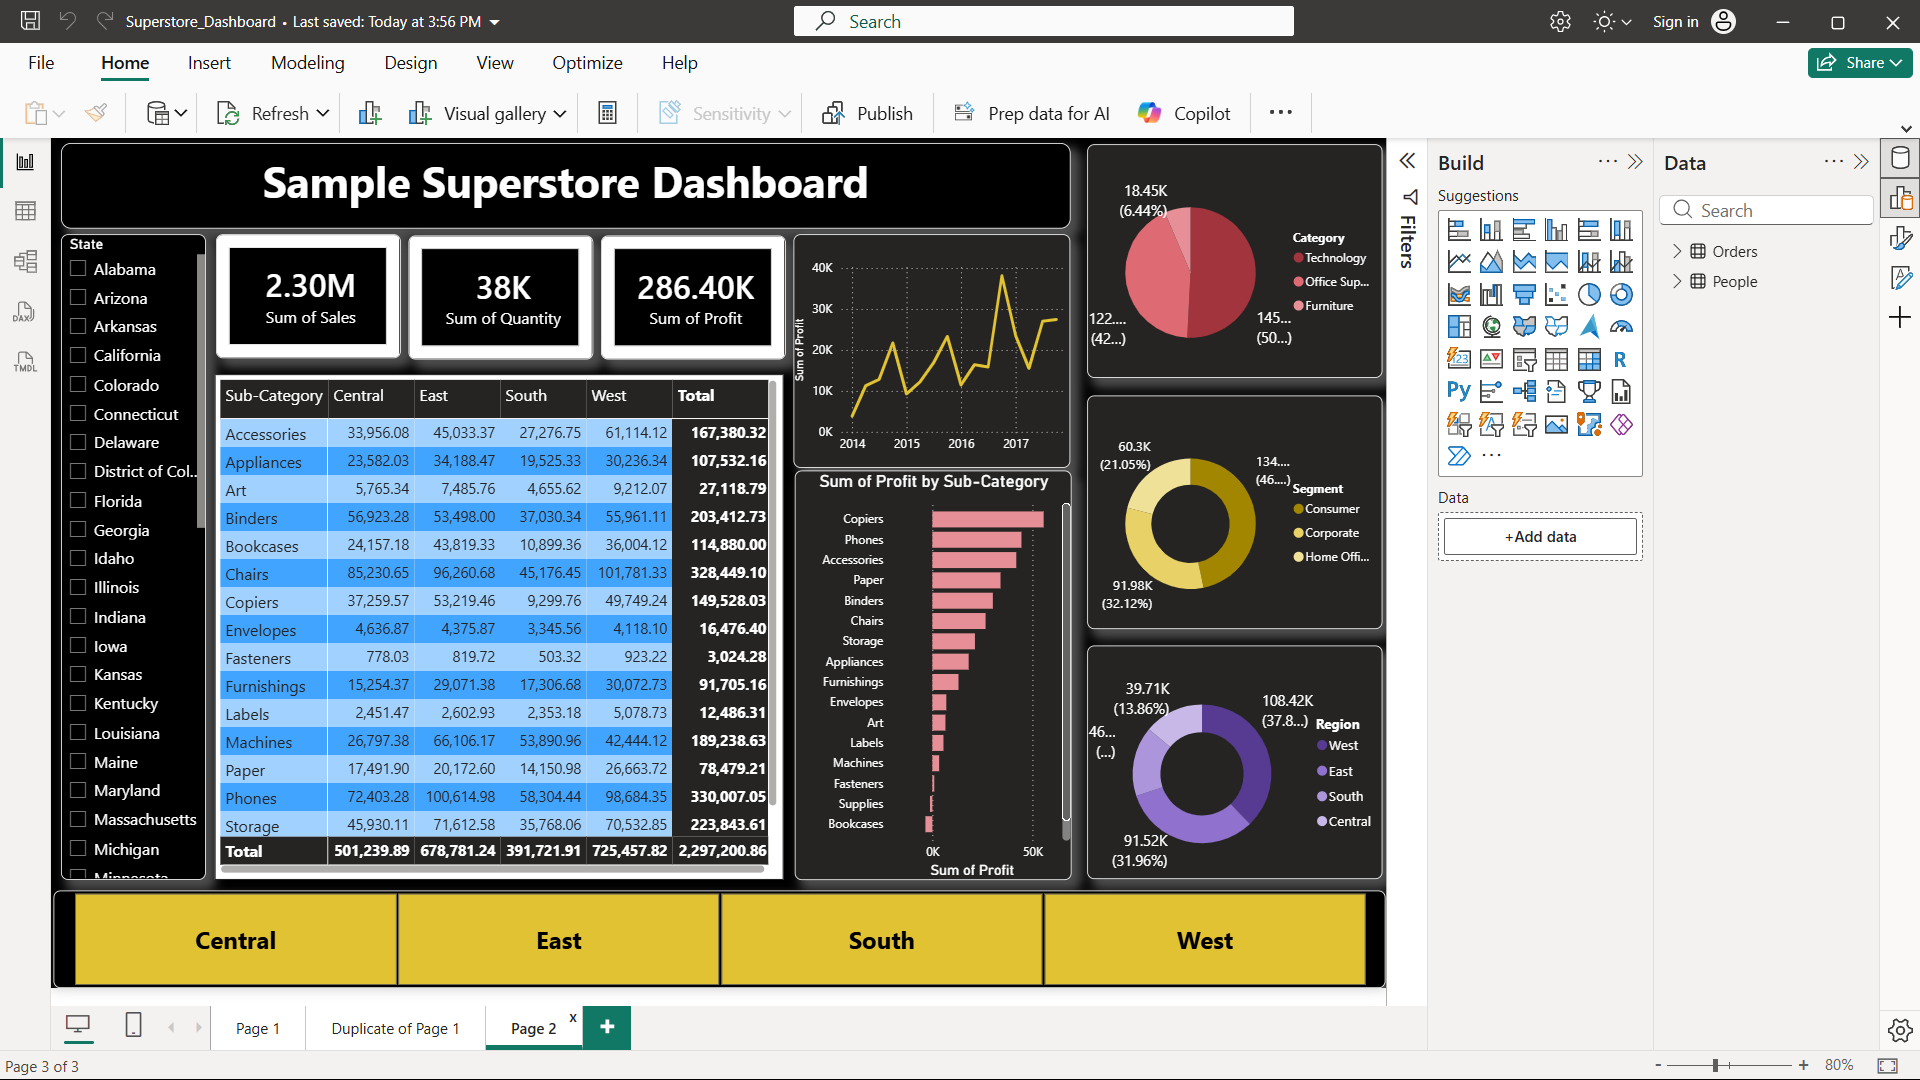

This screenshot's page, from the dashboard's own definition file:
{"tool":"powerbi","page":{"name":"Page 2","canvas":[1335,850],"ordinal":2},"visuals":[{"type":"textbox","box":[10.5,4.5,1009.7,85.8],"z":0},{"type":"slicer","fields":{"Values":["Orders.State"]},"box":[10.5,96.3,144.5,645.5],"z":1000},{"type":"cardVisual","fields":{"Data":["Sum(Orders.Sales)"]},"box":[164.5,96.7,184.7,124.1],"z":2000},{"type":"cardVisual","fields":{"Data":["Sum(Orders.Quantity)"]},"box":[357.8,98.1,184.7,124.1],"z":3000},{"type":"cardVisual","fields":{"Data":["Sum(Orders.Profit)"]},"box":[549.7,98.1,184.7,124.1],"z":4000},{"type":"pivotTable","fields":{"Columns":["Orders.Region"],"Rows":["Orders.Sub-Category"],"Values":["Sum(Orders.Sales)"]},"box":[164,236.2,568.8,505.6],"z":5000},{"type":"lineChart","fields":{"Category":["Orders.Order Date.Variation.Date Hierarchy.Year","Orders.Order Date.Variation.Date Hierarchy.Quarter"],"Y":["Sum(Orders.Profit)"]},"box":[743,96.7,277,233.7],"z":6000},{"type":"clusteredBarChart","fields":{"Category":["Orders.Sub-Category"],"Y":["Sum(Orders.Profit)"]},"box":[743.3,332.6,276.9,409.3],"z":7000},{"type":"pieChart","fields":{"Category":["Orders.Category"],"Y":["Sum(Orders.Profit)"]},"box":[1036.8,6,294.9,233.2],"z":8000},{"type":"donutChart","fields":{"Category":["Orders.Segment"],"Y":["Sum(Orders.Profit)"]},"box":[1036.8,257.3,294.9,233.2],"z":9000},{"type":"donutChart","fields":{"Category":["Orders.Region"],"Y":["Sum(Orders.Profit)"]},"box":[1036.8,507.1,294.9,233.2],"z":10000},{"type":"slicer","fields":{"Values":["Orders.Region"]},"box":[3,752.4,1331.7,97.8],"z":11000}]}

Visuals, with their boxes on the page's 1335x850 design canvas (x1, y1, x2, y2). These are canvas units, not pixel positions in the 1920x1080 screenshot, which may show the page scaled, cropped or inside an application window:
textbox: [10,4,1020,90]
slicer - Orders.State: [10,96,155,742]
cardVisual - Sum(Orders.Sales): [164,97,349,221]
cardVisual - Sum(Orders.Quantity): [358,98,542,222]
cardVisual - Sum(Orders.Profit): [550,98,734,222]
pivotTable - Orders.Region x Orders.Sub-Category: [164,236,733,742]
lineChart - Orders.Order Date.Variation.Date Hierarchy.Year x Orders.Order Date.Variation.Date Hierarchy.Quarter: [743,97,1020,330]
clusteredBarChart - Orders.Sub-Category x Sum(Orders.Profit): [743,333,1020,742]
pieChart - Orders.Category x Sum(Orders.Profit): [1037,6,1332,239]
donutChart - Orders.Segment x Sum(Orders.Profit): [1037,257,1332,490]
donutChart - Orders.Region x Sum(Orders.Profit): [1037,507,1332,740]
slicer - Orders.Region: [3,752,1335,850]
